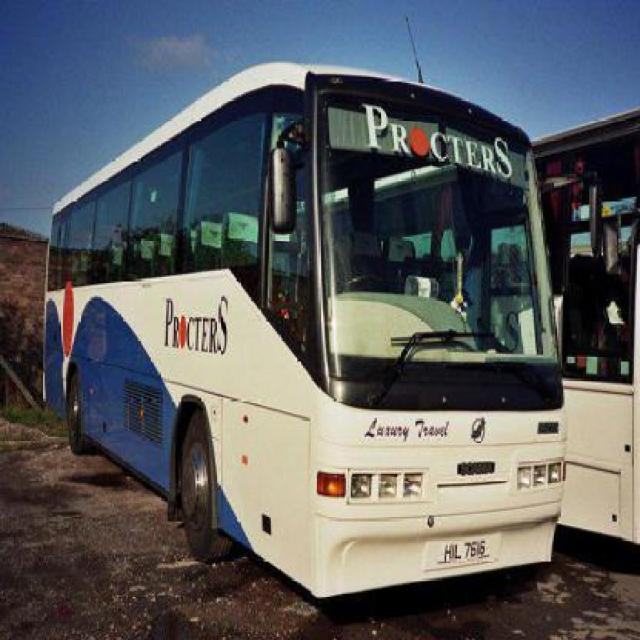bus: (45, 62, 564, 597)
